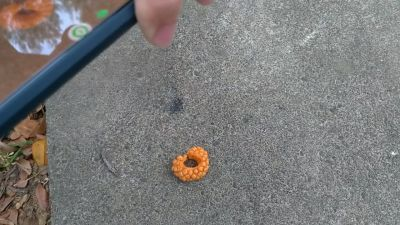eggs: (170, 145, 212, 185)
